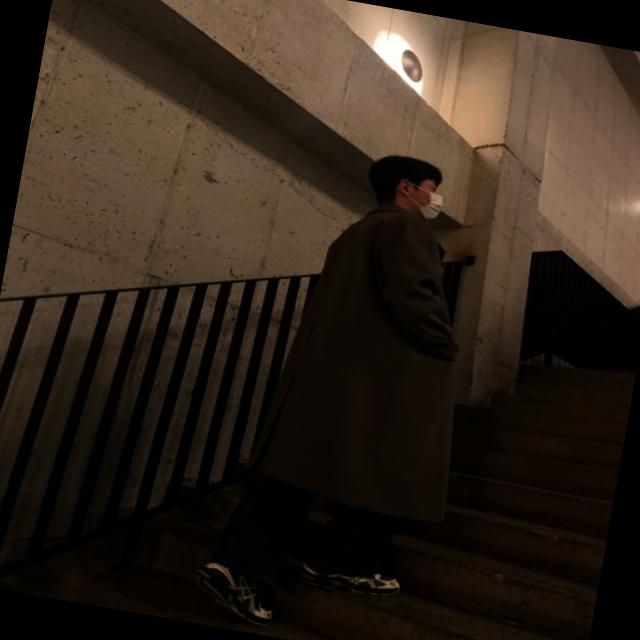coat: (244, 185, 496, 525)
denimpants: (205, 466, 405, 602)
